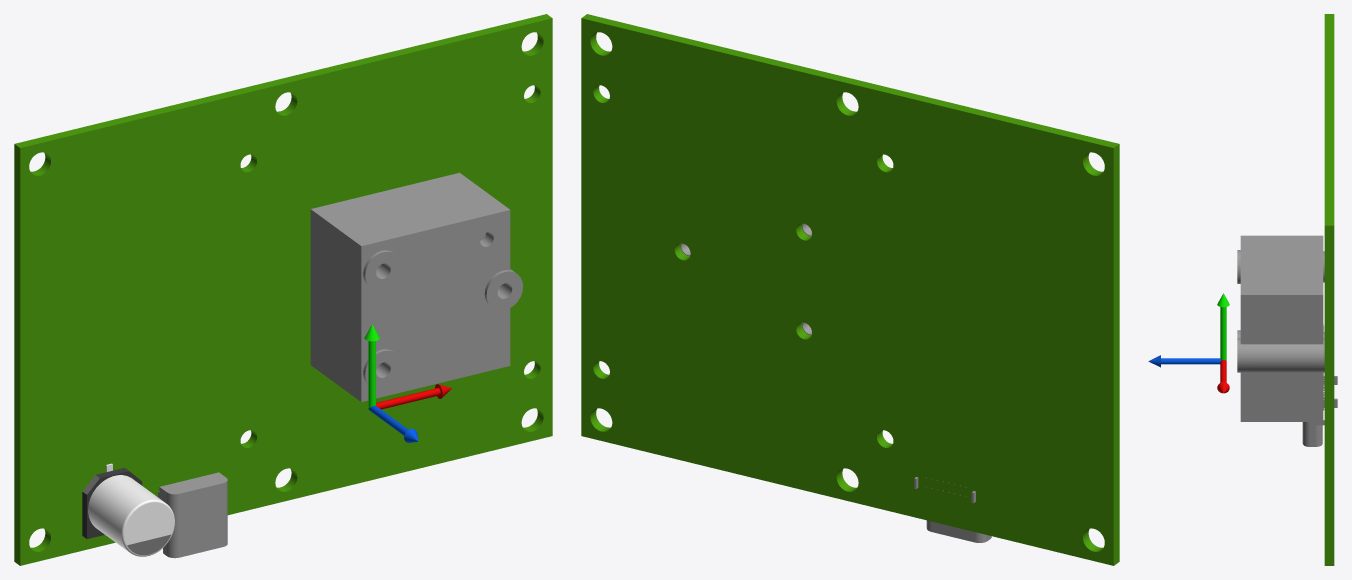
The model's file is IMU_Platform_14P.obj.
3 views of the same model, side by side, from view 1: azimuth 30°, elevation 25°; view 2: azimuth 150°, elevation 25°; view 3: azimuth 270°, elevation 25° (orthographic). The views are drawn at different scales.
Visible parts, largest first — view 1: ボディ1:2, ボディ2, ボディ1:1, ボディ1, ボディ1:3; view 2: ボディ1:2, ボディ1; view 3: ボディ2, ボディ1:2, ボディ1:3, ボディ1.
Part boxes in pixels (left/top/right/bottom): ボディ1:2: left=14, top=14, right=552, bottom=565; ボディ2: left=310, top=172, right=523, bottom=401; ボディ1:1: left=82, top=463, right=174, bottom=556; ボディ1: left=158, top=472, right=227, bottom=558; ボディ1:3: left=364, top=324, right=451, bottom=442; ボディ1:2: left=581, top=14, right=1119, bottom=565; ボディ1: left=914, top=477, right=991, bottom=542; ボディ2: left=1237, top=235, right=1324, bottom=421; ボディ1:2: left=1324, top=14, right=1334, bottom=565; ボディ1:3: left=1148, top=293, right=1229, bottom=393; ボディ1: left=1302, top=376, right=1337, bottom=446.
Size of the model in its own units: 8 by 6.25 by 3.02.
